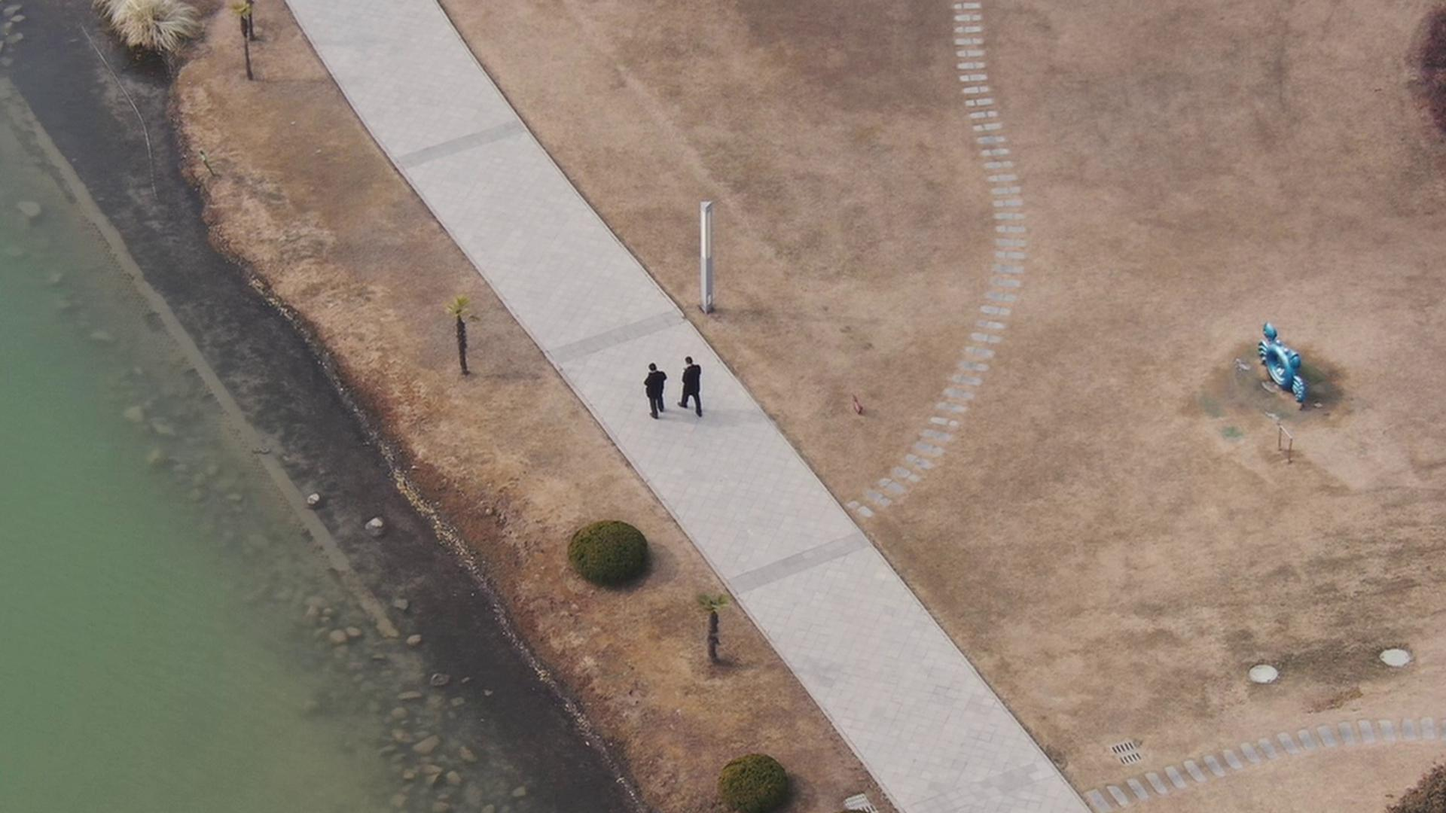human: (630, 355, 667, 426), (666, 346, 707, 410)
